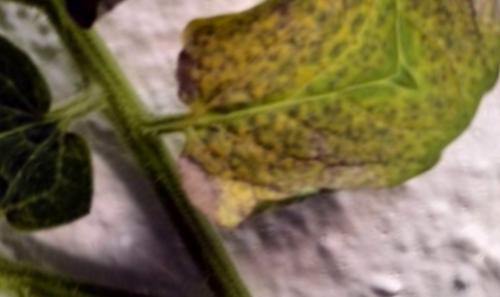Tomato leaf bacterial spot: (111, 0, 474, 297)
